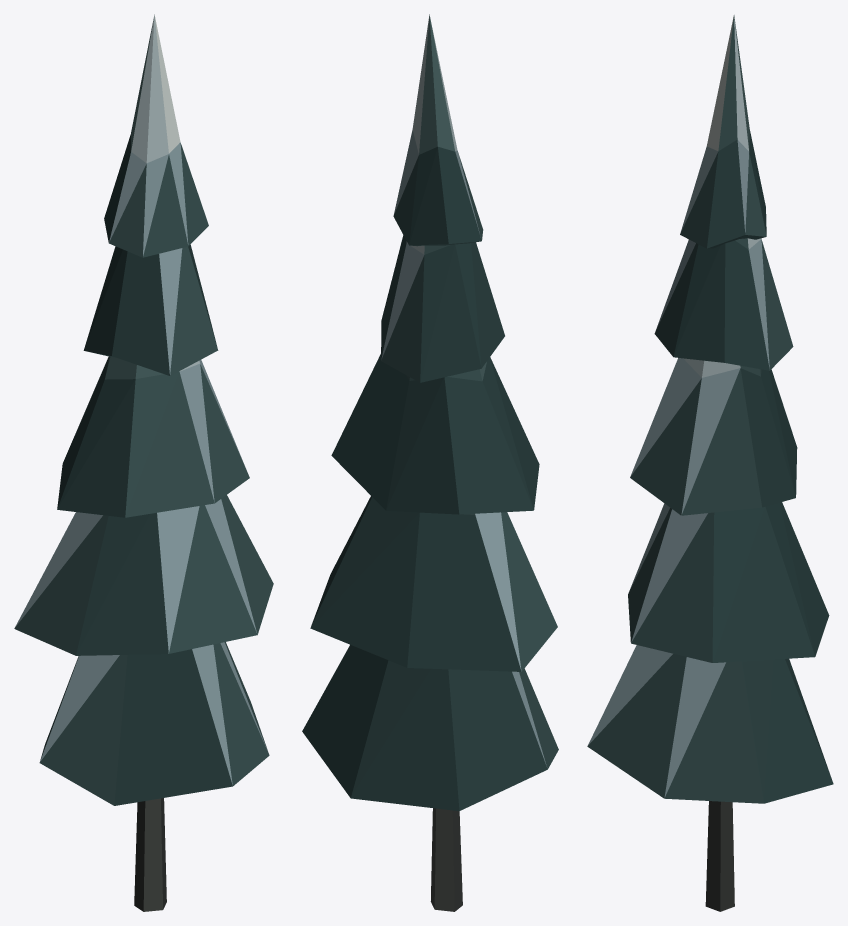
The model's file is Ridge_Spruce_Mid.obj.
3 renders of one model, left to right at view 1: azimuth 30°, elevation 25°; view 2: azimuth 150°, elevation 25°; view 3: azimuth 270°, elevation 25°, orthographic.
Visible parts, largest first — view 1: Ridge_Spruce_Mid; view 2: Ridge_Spruce_Mid; view 3: Ridge_Spruce_Mid.
Boxes of the visible parts, x1,y1,x2,y2 form: Ridge_Spruce_Mid: [14, 14, 273, 911]; Ridge_Spruce_Mid: [302, 14, 558, 911]; Ridge_Spruce_Mid: [587, 14, 833, 911].
Bounding box in the file's own units: 2.85 × 10.6 × 2.64.
Materials: 1 (1 with a texture image).
